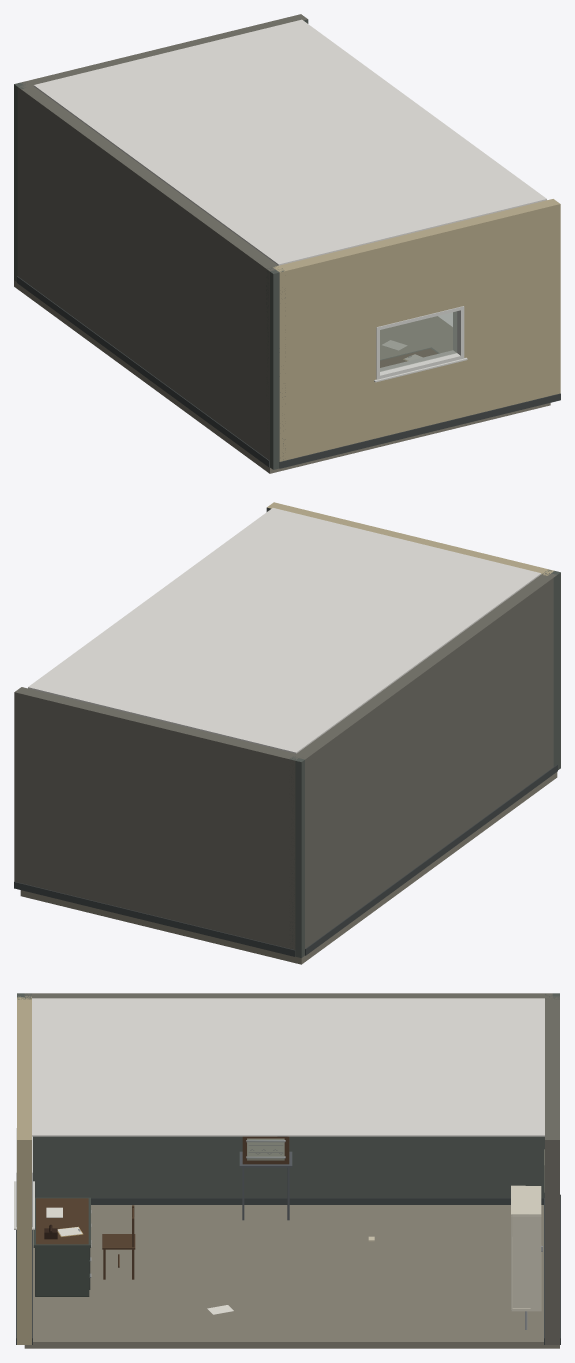
The model's file is ENV_W0_ObservationRoom.glb.
3 renders of one model, top to bottom at view 1: azimuth 30°, elevation 25°; view 2: azimuth 150°, elevation 25°; view 3: azimuth 270°, elevation 25°, orthographic. The views are drawn at different scales.
Visible parts, largest first — view 1: ENV_W0_ObservationRoom_Architecture, ENV_W0_ObservationRoom_Ceiling, ENV_W0_ObservationRoom_Posts; view 2: ENV_W0_ObservationRoom_Architecture, ENV_W0_ObservationRoom_Ceiling, ENV_W0_ObservationRoom_Posts; view 3: ENV_W0_ObservationRoom_Architecture, ENV_W0_ObservationRoom_Ceiling, PROP_Desk_Steel_Tanker_Mesh, PROP_Cabinet_Instrument_Glass_Mesh, PROP_Recorder_Chart_Strip_Mesh, PROP_Chair_Wood_Historic_Mesh.
Part boxes in pixels (<box>): ENV_W0_ObservationRoom_Architecture: <box>14,14,560,473</box>; ENV_W0_ObservationRoom_Ceiling: <box>33,19,546,265</box>; ENV_W0_ObservationRoom_Posts: <box>14,82,285,469</box>; ENV_W0_ObservationRoom_Architecture: <box>14,502,557,964</box>; ENV_W0_ObservationRoom_Ceiling: <box>28,508,541,753</box>; ENV_W0_ObservationRoom_Posts: <box>289,569,560,957</box>; ENV_W0_ObservationRoom_Architecture: <box>14,993,560,1348</box>; ENV_W0_ObservationRoom_Ceiling: <box>32,998,544,1136</box>; PROP_Desk_Steel_Tanker_Mesh: <box>33,1197,91,1296</box>; PROP_Cabinet_Instrument_Glass_Mesh: <box>511,1185,542,1329</box>; PROP_Recorder_Chart_Strip_Mesh: <box>239,1136,292,1220</box>; PROP_Chair_Wood_Historic_Mesh: <box>102,1205,135,1279</box>.
Size of what is drawn, in the model's own units: 4.61 by 3.12 by 7.25.
